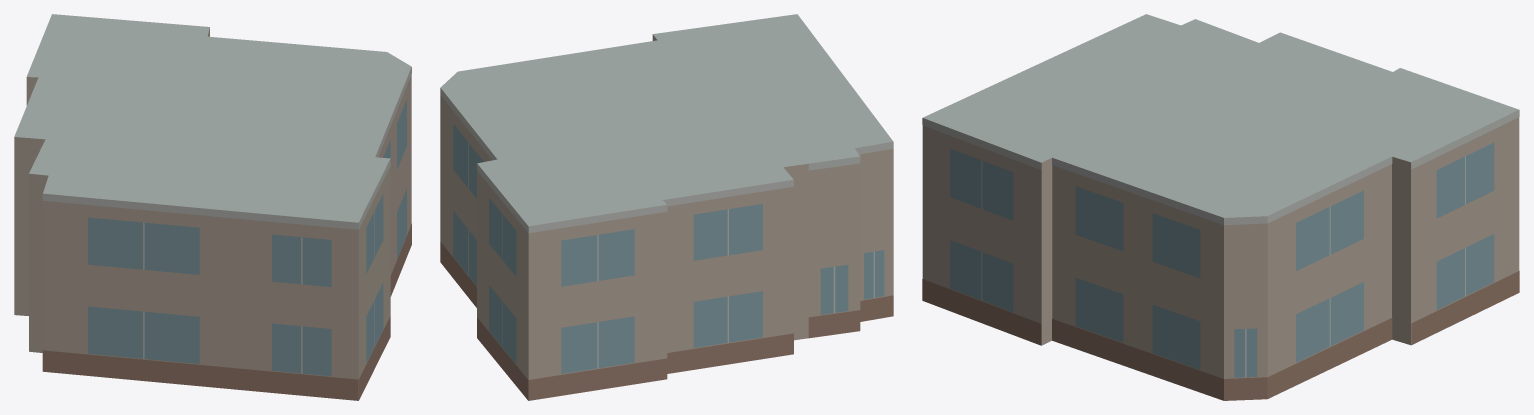
File: survey-upis-32698029.glb
3 views of the same model, side by side, from view 1: azimuth 30°, elevation 25°; view 2: azimuth 150°, elevation 25°; view 3: azimuth 270°, elevation 25° (orthographic). The views are drawn at different scales.
Parts seen in each view (by area): view 1: survey-upis-32698029.tmp; view 2: survey-upis-32698029.tmp; view 3: survey-upis-32698029.tmp.
Part boxes in pixels (x1,y1,x2,y2): survey-upis-32698029.tmp: [14, 14, 411, 400]; survey-upis-32698029.tmp: [440, 14, 893, 400]; survey-upis-32698029.tmp: [922, 14, 1519, 400].
Size of the model in its own units: 14.59 by 6.1 by 18.05.
